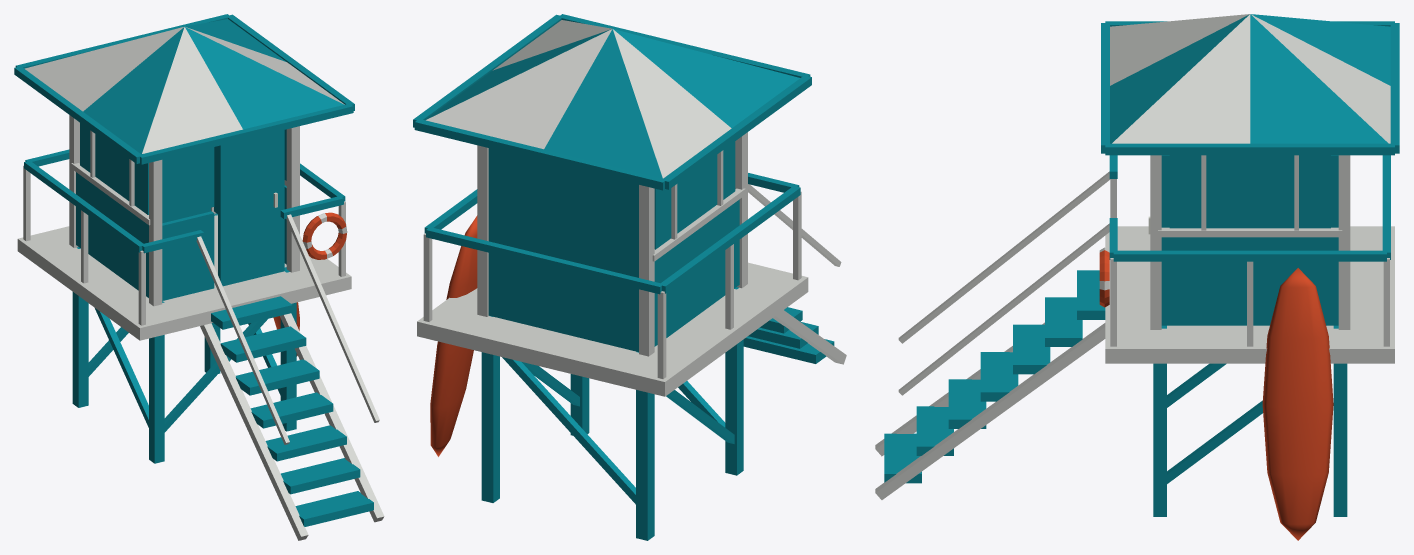
The model's file is lifeguard_tower.glb.
3 renders of one model, left to right at view 1: azimuth 30°, elevation 25°; view 2: azimuth 150°, elevation 25°; view 3: azimuth 270°, elevation 25°, orthographic. The views are drawn at different scales.
Visible parts, largest first — view 1: lifeguard_tower; view 2: lifeguard_tower; view 3: lifeguard_tower.
Boxes of the visible parts, x1,y1,x2,y2 form: lifeguard_tower: [14, 14, 384, 540]; lifeguard_tower: [413, 14, 846, 540]; lifeguard_tower: [875, 14, 1399, 540].
Bounding box in the file's own units: 2.4 × 3.73 × 3.84.
